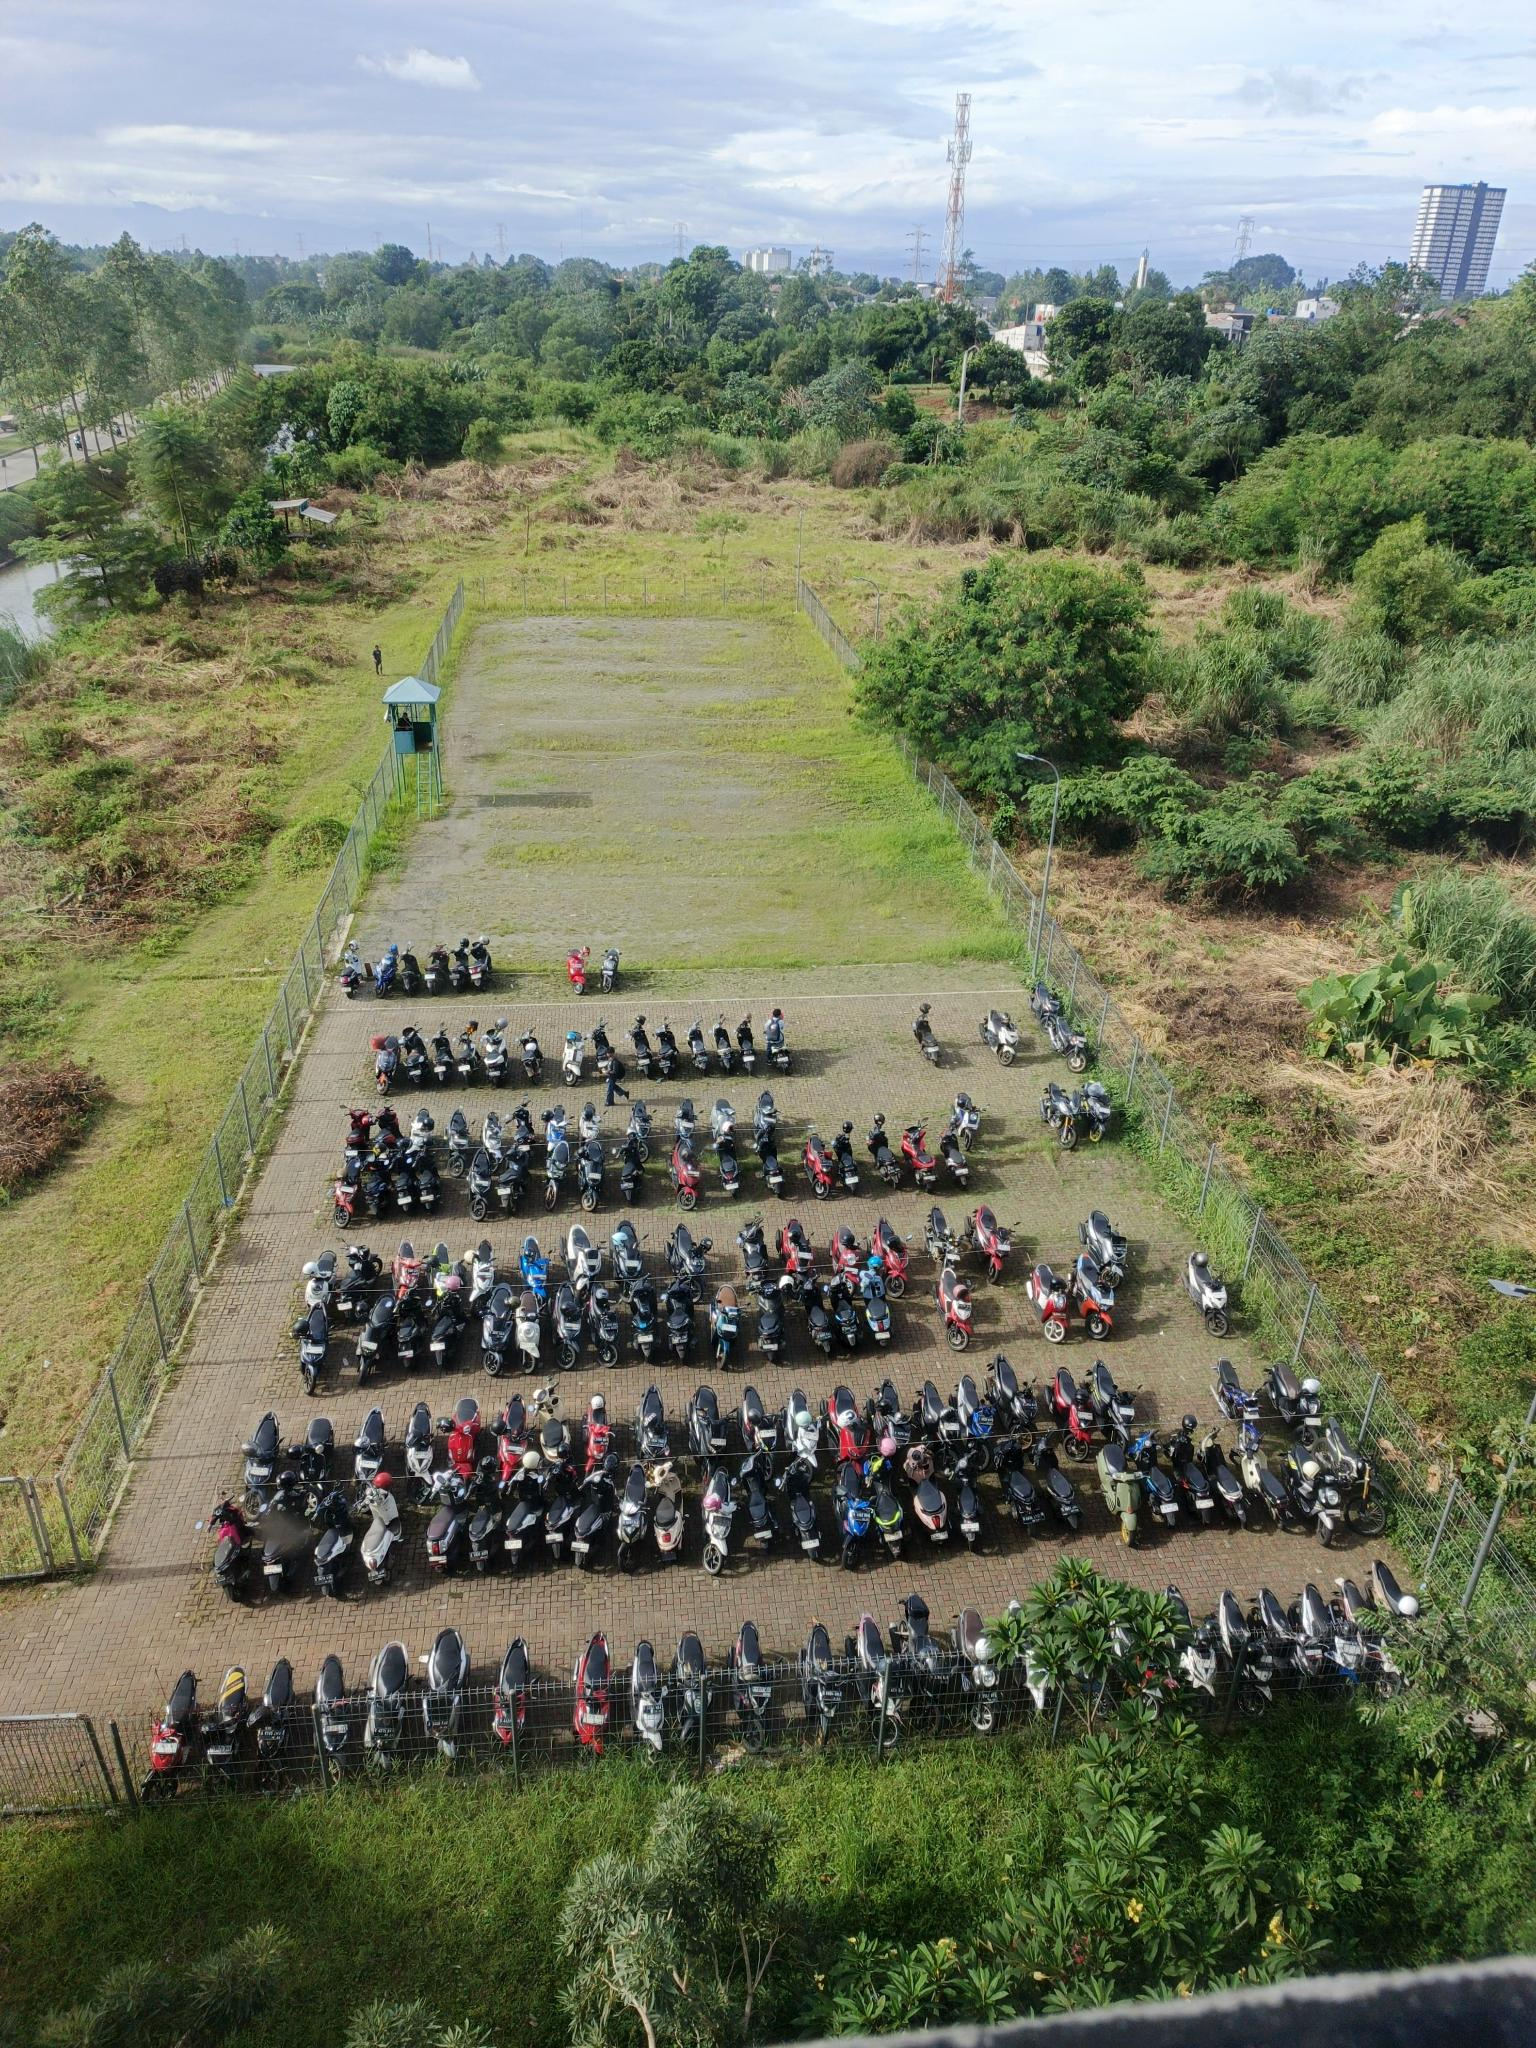motor: (890, 1594, 954, 1729), (841, 1609, 904, 1746), (722, 1614, 784, 1753), (1291, 1573, 1361, 1693), (1316, 1421, 1390, 1533), (136, 1667, 197, 1800), (560, 1630, 623, 1757), (1163, 1582, 1223, 1713), (1217, 1578, 1273, 1717), (420, 1619, 474, 1762), (949, 1601, 1007, 1733), (304, 1651, 358, 1791), (792, 1607, 845, 1742), (363, 1639, 411, 1784), (1252, 1575, 1310, 1694), (486, 1629, 539, 1759), (1278, 1437, 1341, 1545), (623, 1634, 675, 1764), (1165, 1414, 1223, 1526), (252, 1655, 299, 1792), (200, 1665, 249, 1796), (233, 1407, 285, 1529), (1233, 1430, 1294, 1533), (904, 1438, 956, 1554), (1090, 1440, 1145, 1549), (1033, 1429, 1086, 1542), (666, 1628, 718, 1739), (1176, 1250, 1238, 1342), (737, 1453, 784, 1573), (355, 1475, 403, 1591), (991, 1431, 1044, 1535), (1198, 1428, 1253, 1528), (1038, 1361, 1094, 1458), (820, 1374, 869, 1483), (946, 1442, 995, 1551), (1209, 1354, 1265, 1449), (659, 1212, 714, 1306), (678, 1378, 733, 1471), (694, 1464, 738, 1578), (533, 1457, 579, 1565), (207, 1497, 253, 1605), (1086, 1359, 1141, 1449), (827, 1462, 872, 1572), (309, 1487, 354, 1597), (869, 1451, 912, 1566), (1264, 1354, 1318, 1445), (782, 1459, 827, 1567), (348, 1290, 397, 1389), (526, 1374, 577, 1469), (500, 1465, 544, 1575), (422, 1469, 465, 1581), (1136, 1429, 1184, 1529), (1332, 1572, 1380, 1671), (1069, 1249, 1120, 1342), (1367, 1553, 1421, 1640), (1076, 1205, 1129, 1293), (613, 1459, 652, 1578), (931, 1263, 979, 1359), (966, 1202, 1021, 1284), (573, 1460, 612, 1571), (657, 1271, 702, 1367), (626, 1379, 678, 1462), (1020, 1261, 1071, 1345), (746, 1272, 793, 1363), (734, 1377, 779, 1472), (863, 1214, 913, 1299), (703, 1277, 750, 1367), (464, 1466, 501, 1580), (855, 1254, 898, 1352), (988, 1353, 1042, 1431), (651, 1460, 691, 1565), (486, 1387, 537, 1469), (581, 1277, 624, 1372), (544, 1278, 586, 1374), (477, 1279, 519, 1375), (288, 1299, 331, 1392), (783, 1384, 824, 1481), (604, 1214, 651, 1298), (771, 1211, 819, 1293), (404, 1399, 436, 1520), (427, 1285, 469, 1377), (512, 1284, 551, 1382), (437, 1394, 485, 1473), (825, 1217, 868, 1305), (868, 1370, 919, 1444), (338, 1240, 384, 1322), (797, 1270, 839, 1357), (732, 1207, 773, 1295), (559, 1219, 604, 1299), (285, 1414, 337, 1483), (621, 1272, 662, 1359), (347, 1405, 392, 1480), (920, 1202, 966, 1274), (1036, 1081, 1081, 1153), (863, 1110, 903, 1191), (916, 1369, 961, 1441), (494, 1138, 535, 1216), (899, 1118, 941, 1194), (665, 1138, 707, 1214), (820, 1268, 860, 1347), (710, 1123, 749, 1204), (396, 1284, 430, 1375), (463, 1142, 499, 1225), (798, 1128, 838, 1202), (950, 1365, 991, 1436), (751, 1127, 790, 1201), (300, 1244, 341, 1314), (327, 1151, 363, 1230), (515, 1231, 555, 1302), (359, 1141, 391, 1229), (574, 1137, 610, 1215), (386, 1236, 425, 1308), (976, 1007, 1022, 1068), (412, 1134, 445, 1218), (385, 1135, 416, 1224), (1045, 1014, 1091, 1072), (1078, 1079, 1117, 1147), (829, 1119, 863, 1196), (617, 1131, 651, 1208), (583, 1391, 613, 1477), (936, 1124, 973, 1191), (466, 1235, 496, 1317), (946, 1089, 985, 1151), (542, 1137, 573, 1213), (624, 1013, 657, 1080), (747, 1089, 785, 1147), (910, 1001, 943, 1067), (481, 1018, 513, 1086), (400, 1020, 432, 1088), (372, 1032, 402, 1097), (453, 1020, 482, 1086), (1027, 979, 1061, 1035), (426, 1237, 460, 1293), (707, 1093, 740, 1150), (669, 1096, 700, 1156), (652, 1019, 681, 1082), (518, 1021, 547, 1084), (428, 1019, 455, 1086), (557, 1026, 586, 1088), (340, 1098, 371, 1156), (623, 1099, 651, 1163), (685, 1014, 712, 1078), (422, 939, 450, 999), (734, 1009, 758, 1077), (447, 1106, 469, 1180), (372, 940, 398, 1002), (709, 1012, 735, 1074), (337, 938, 363, 997), (565, 943, 592, 997), (398, 939, 421, 1001), (505, 1099, 537, 1143), (597, 945, 624, 997), (470, 936, 494, 993), (539, 1101, 571, 1142), (448, 939, 471, 995), (577, 1099, 606, 1143), (372, 1101, 398, 1147), (409, 1105, 435, 1150), (482, 1109, 504, 1157), (587, 1016, 609, 1055)
